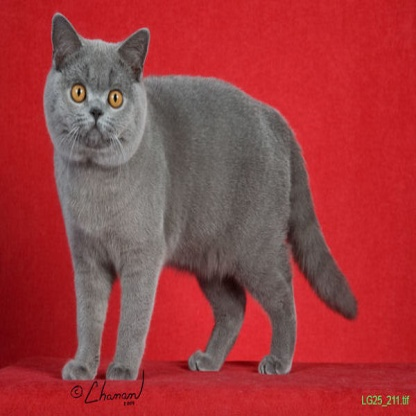british_shorthair: (44, 12, 359, 381)
